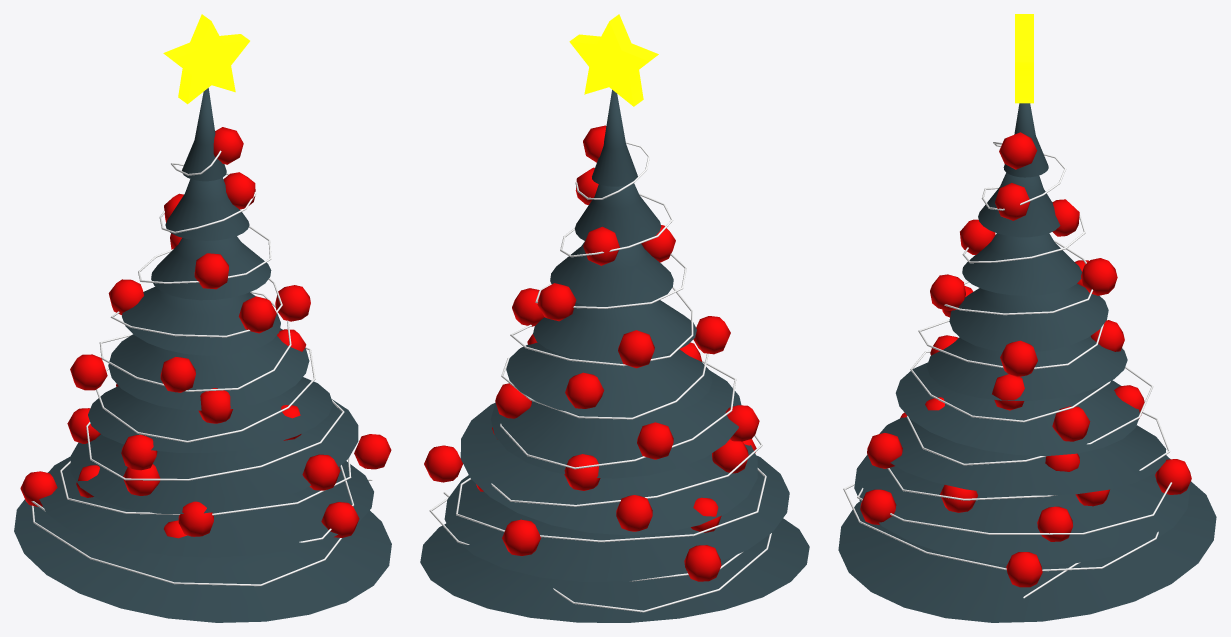
File: herotree0101.fbx
3 renders of one model, left to right at view 1: azimuth 30°, elevation 25°; view 2: azimuth 150°, elevation 25°; view 3: azimuth 270°, elevation 25°, orthographic. The views are drawn at different scales.
Parts seen in each view (by area): view 1: Disc_0_1, Sphere_0_1, Sweep, Extrude_1; view 2: Disc_0_1, Sphere_0_1, Sweep, Extrude_1; view 3: Disc_0_1, Sphere_0_1, Sweep, Extrude_1.
Boxes of the visible parts, x1,y1,x2,y2 form: Disc_0_1: (14, 88, 391, 622); Sphere_0_1: (20, 127, 391, 538); Sweep: (31, 150, 372, 586); Extrude_1: (163, 14, 249, 104); Disc_0_1: (420, 90, 809, 622); Sphere_0_1: (424, 125, 759, 581); Sweep: (429, 141, 771, 612); Extrude_1: (569, 14, 658, 106); Disc_0_1: (838, 103, 1216, 622); Sphere_0_1: (860, 132, 1191, 587); Sweep: (843, 142, 1172, 598); Extrude_1: (1015, 14, 1033, 103).
Size of the model in its own units: 419 by 615 by 395.
